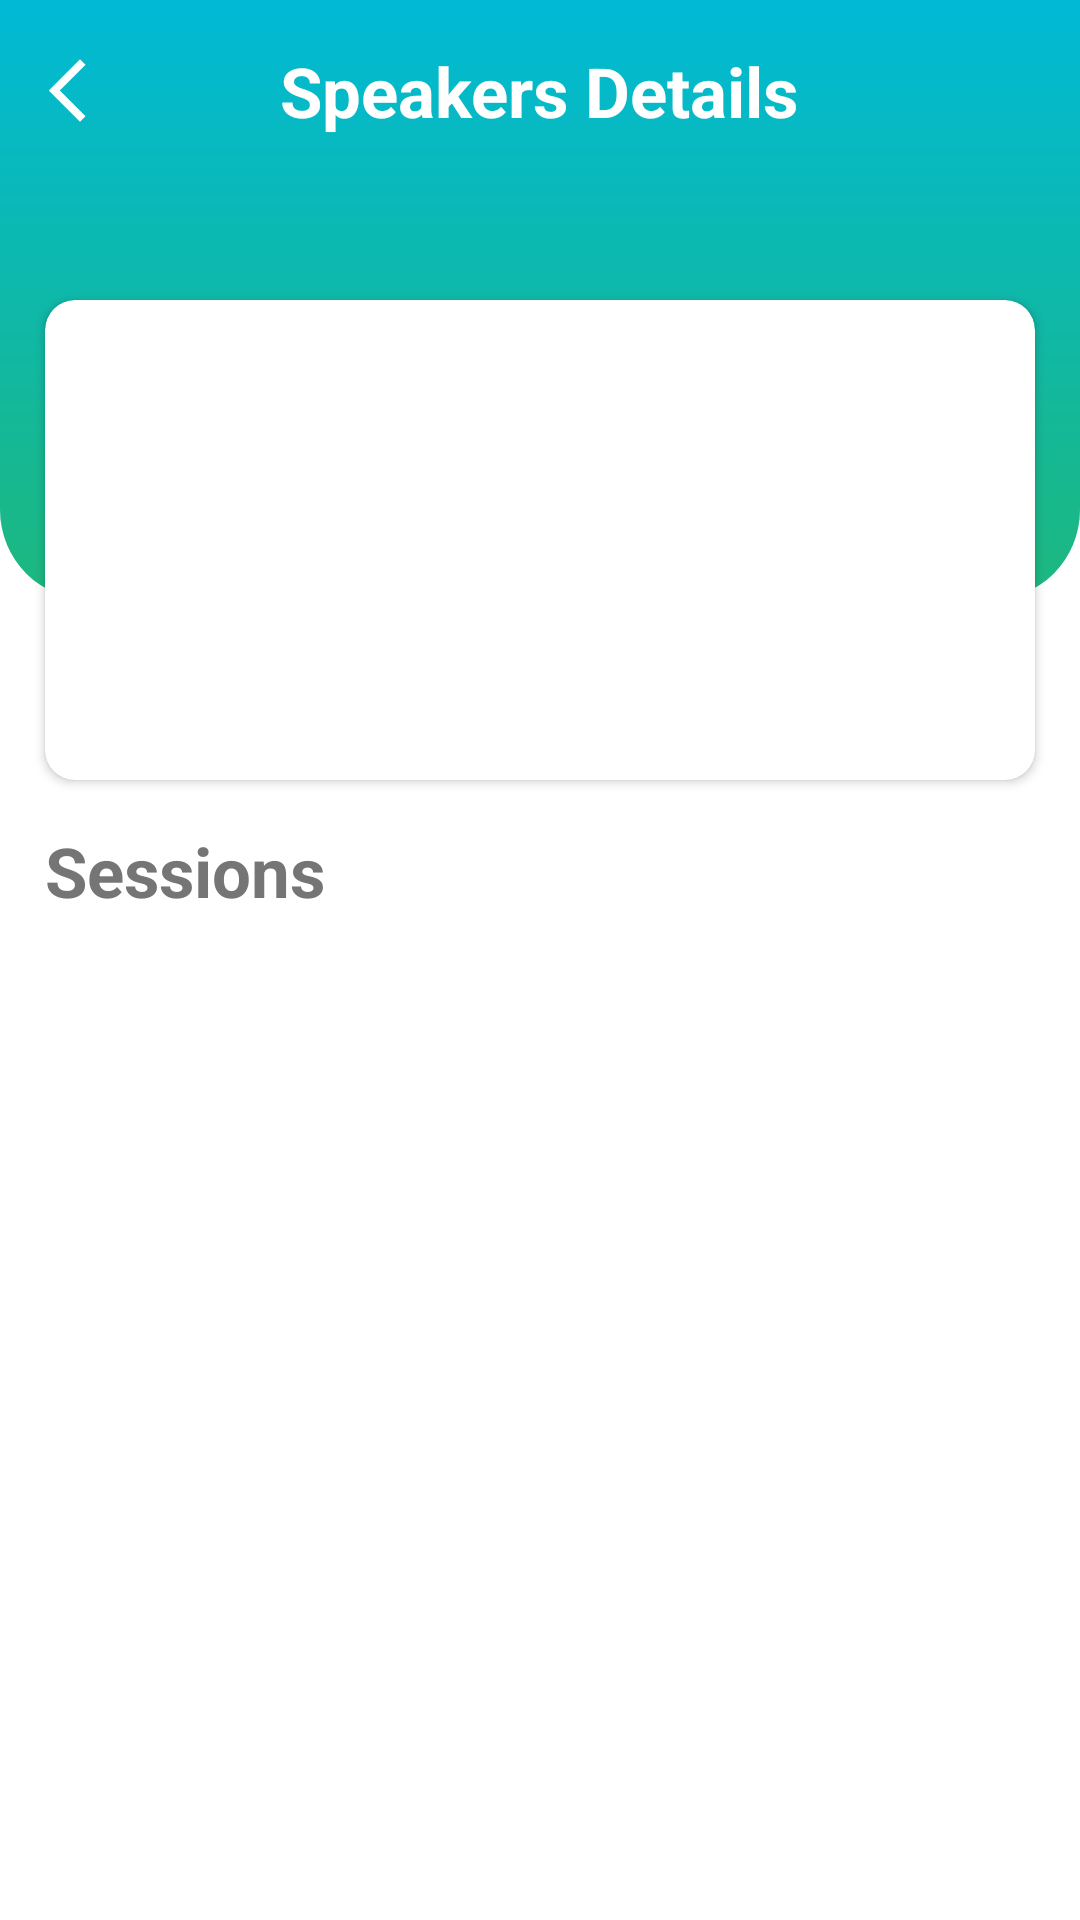

Icon bounding boxes for this 1080px×1920px phone screenshot, format (x1, y1, x2, y2):
back: (49, 59, 86, 122)
